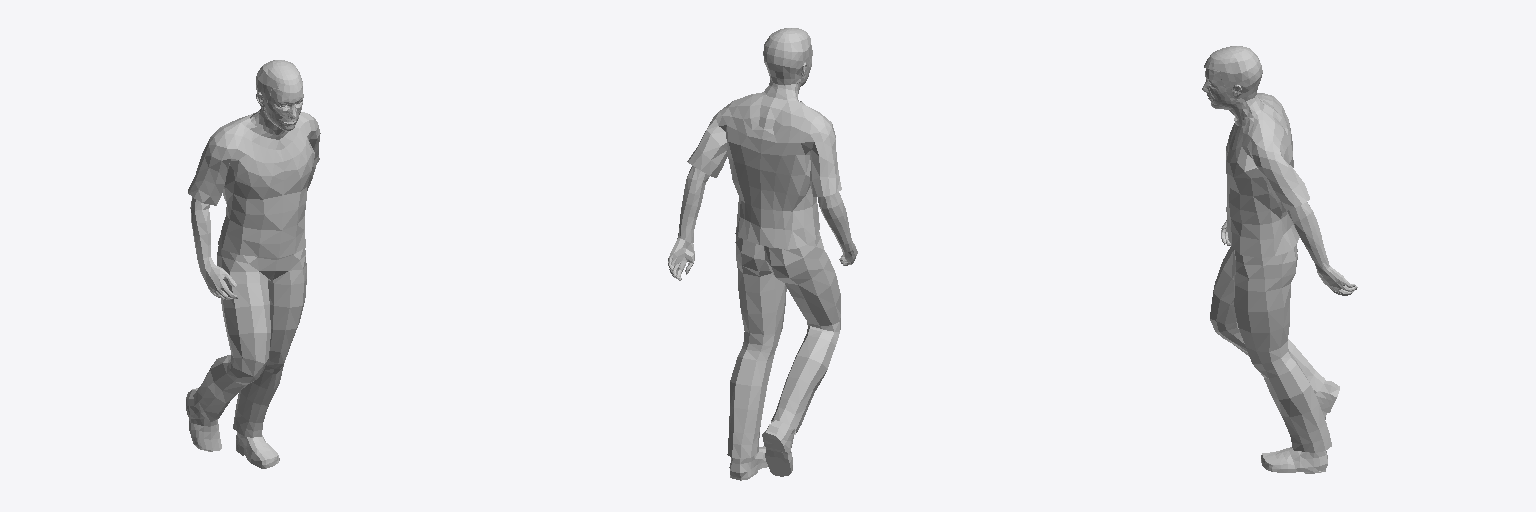
File: man_walk30.obj
3 renders of one model, left to right at view 1: azimuth 30°, elevation 25°; view 2: azimuth 150°, elevation 25°; view 3: azimuth 270°, elevation 25°, orthographic.
Visible parts, largest first — view 1: man_walk30; view 2: man_walk30; view 3: man_walk30.
Boxes of the visible parts, box(x1,y1,x2,y2) form: man_walk30: box(186, 60, 320, 468); man_walk30: box(668, 28, 857, 480); man_walk30: box(1202, 46, 1357, 473).
Bounding box in the file's own units: 62.62 × 178 × 60.09.